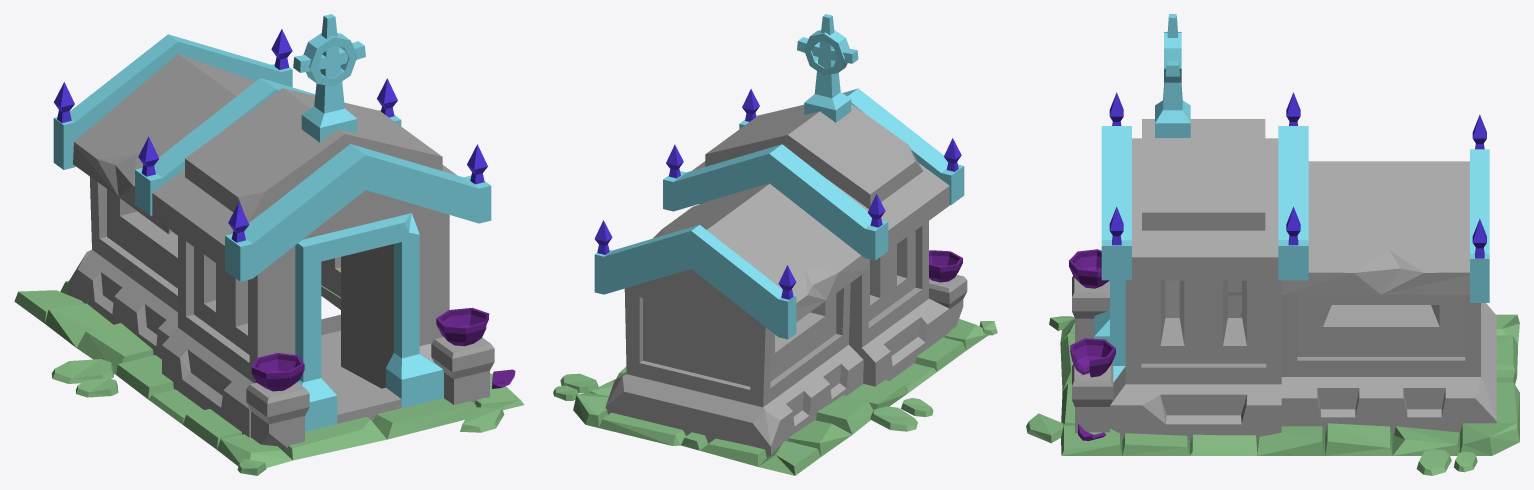
The model's file is SM_Crypt.fbx.
The picture shows the model from 3 angles, left to right: view 1: azimuth 30°, elevation 25°; view 2: azimuth 150°, elevation 25°; view 3: azimuth 270°, elevation 25°; orthographic projection. The views are drawn at different scales.
Visible parts, largest first — view 1: Box009; view 2: Box009; view 3: Box009.
Part boxes in pixels (left/top/right/bottom): Box009: left=14, top=14, right=524, bottom=475; Box009: left=553, top=14, right=997, bottom=475; Box009: left=1026, top=14, right=1519, bottom=475.
Bounding box in the file's own units: 544 × 531 × 633.
